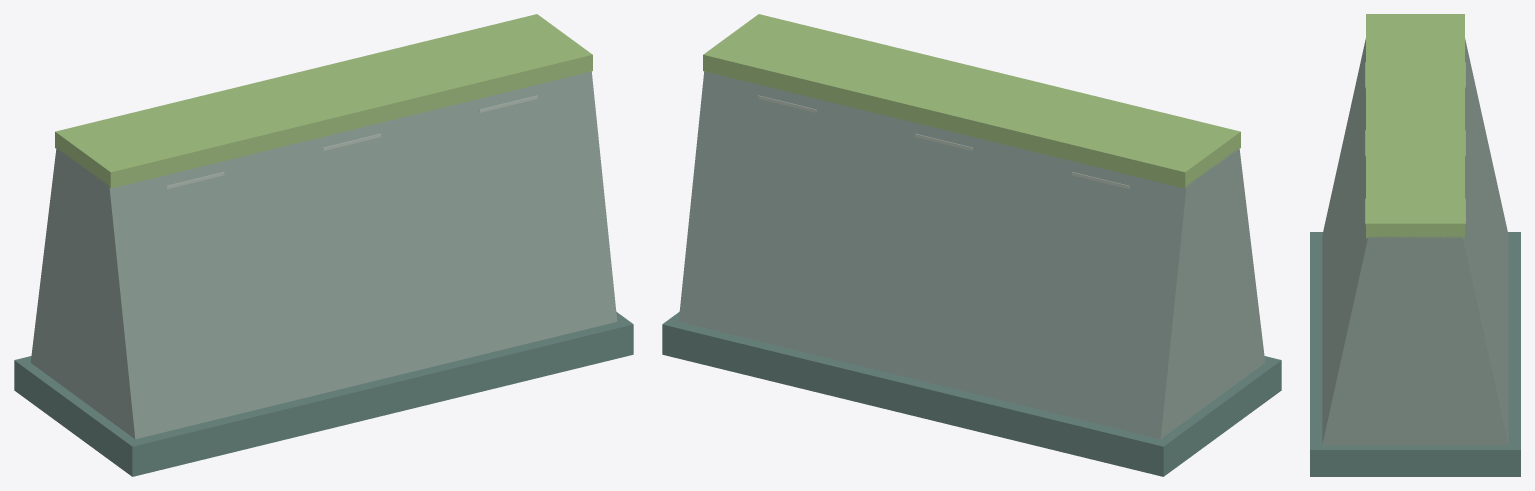
The model's file is cover-barrier-mossy.glb.
3 renders of one model, left to right at view 1: azimuth 30°, elevation 25°; view 2: azimuth 150°, elevation 25°; view 3: azimuth 270°, elevation 25°, orthographic. The views are drawn at different scales.
Visible parts, largest first — view 1: cover-barrier-kit-mossy-stone, cover-barrier-kit-mossy-top, cover-barrier-kit-mossy-shade, cover-barrier-kit-mossy-light; view 2: cover-barrier-kit-mossy-stone, cover-barrier-kit-mossy-top, cover-barrier-kit-mossy-shade, cover-barrier-kit-mossy-light; view 3: cover-barrier-kit-mossy-stone, cover-barrier-kit-mossy-top, cover-barrier-kit-mossy-shade.
Part boxes in pixels (bbox=[...]): cover-barrier-kit-mossy-stone: bbox=[30, 71, 617, 439]; cover-barrier-kit-mossy-top: bbox=[55, 14, 592, 188]; cover-barrier-kit-mossy-shade: bbox=[14, 312, 633, 476]; cover-barrier-kit-mossy-light: bbox=[166, 95, 537, 188]; cover-barrier-kit-mossy-stone: bbox=[678, 71, 1265, 439]; cover-barrier-kit-mossy-top: bbox=[703, 14, 1240, 188]; cover-barrier-kit-mossy-shade: bbox=[662, 312, 1281, 476]; cover-barrier-kit-mossy-light: bbox=[758, 95, 1129, 188]; cover-barrier-kit-mossy-stone: bbox=[1322, 38, 1508, 445]; cover-barrier-kit-mossy-top: bbox=[1366, 14, 1464, 238]; cover-barrier-kit-mossy-shade: bbox=[1310, 232, 1520, 476].
Bounding box in the file's own units: 2.08 × 1.11 × 0.85.
